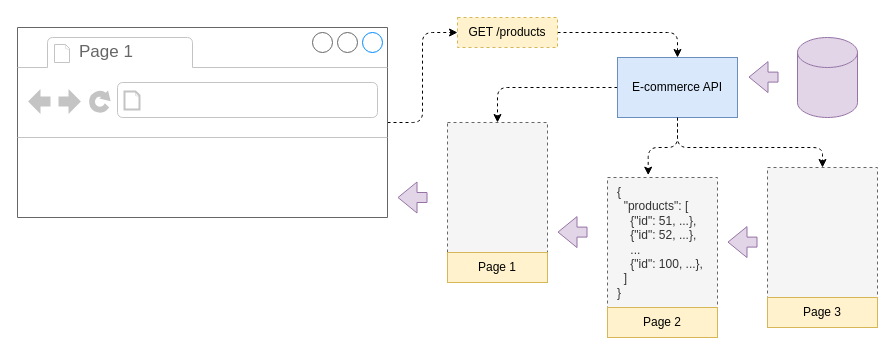
The diagram is 895 pixels wide and 355 high, and some of its shapes have lost their labels. Here are the shapes that lost their labels. From the top down, the box of each, then its label:
(146, 86, 398, 114): https://example.com/catalog
(446, 122, 548, 252): { "products": [ {"id": 1, ...}, {"id": 2, ...}, ... {"id": 50, ...} ] }
(766, 166, 878, 298): { "products": [ {"id": 101, ...}, {"id": 102, ...}, ... {"id": 150, ...}, ] }
